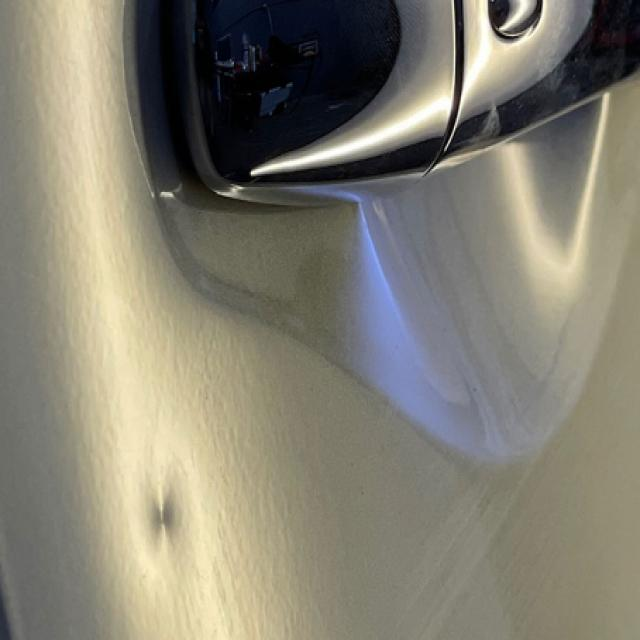dents: (142, 472, 192, 578)
